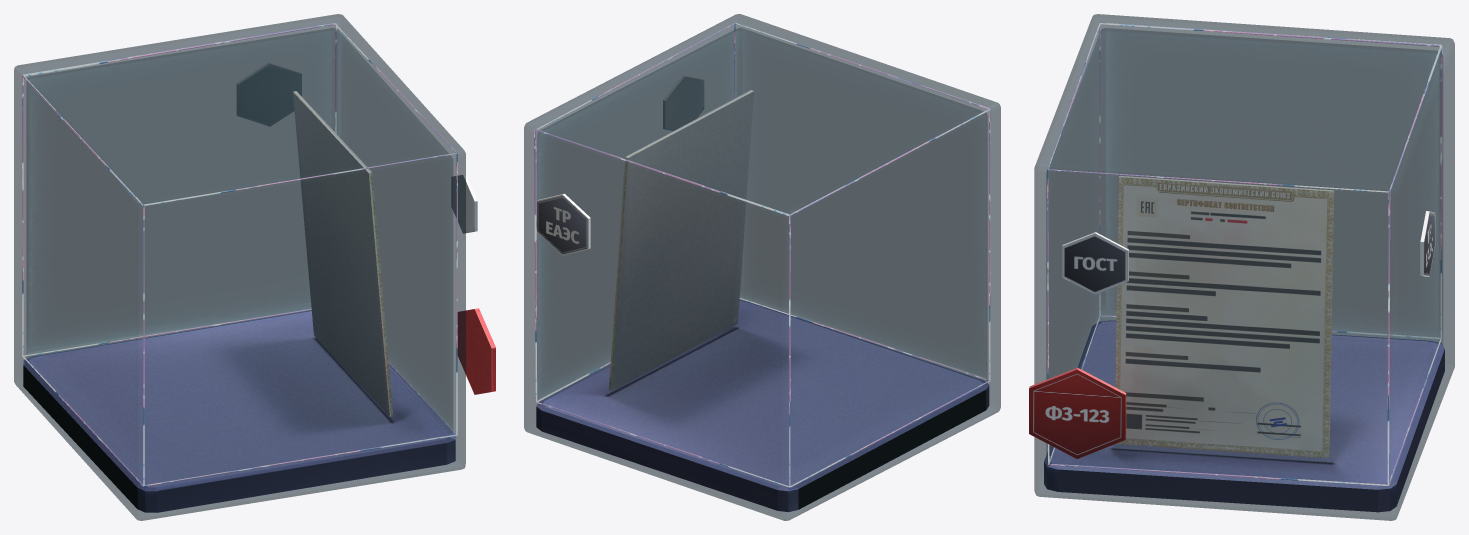
File: cube_certificate.glb
The picture shows the model from 3 angles, left to right: view 1: azimuth 30°, elevation 25°; view 2: azimuth 150°, elevation 25°; view 3: azimuth 270°, elevation 25°; orthographic projection. The views are drawn at different scales.
Parts seen in each view (by area): view 1: Cube, Cube.001, Plane.007, Cylinder, Plane.006, Plane.005, Plane.004; view 2: Cube, Cube.001, Plane.007, Cylinder, Plane.006, Plane.004; view 3: Cube, Plane.007, Cube.001, Plane.005, Cylinder, Plane.004, Plane.006.
Part boxes in pixels (x1,y1,x2,y2): Cube: (14,14,465,520); Cube.001: (23,310,455,512); Plane.007: (293,91,393,416); Cylinder: (22,22,457,486); Plane.006: (237,63,301,126); Plane.005: (457,308,495,394); Plane.004: (451,174,477,233); Cube: (524,14,1000,520); Cube.001: (536,300,989,512); Plane.007: (609,90,753,390); Cylinder: (534,22,990,487); Plane.006: (537,193,590,255); Plane.004: (663,76,703,130); Cube: (1034,14,1454,520); Plane.007: (1115,176,1334,458); Cube.001: (1044,320,1444,512); Plane.005: (1029,367,1126,458); Cylinder: (1047,22,1442,485); Plane.004: (1062,232,1128,294); Plane.006: (1420,211,1435,276).
Size of the model in its own units: 2.69 by 2.36 by 2.73.
7 materials, 6 textured.
